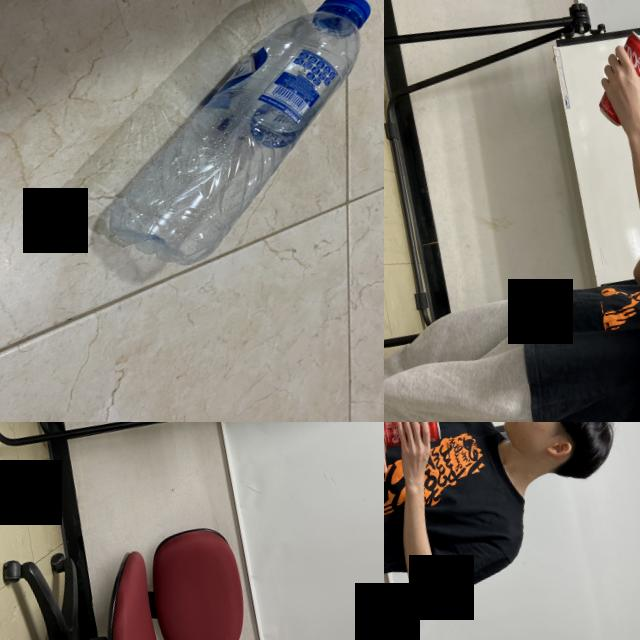bottle: (50, 0, 384, 284)
can: (582, 25, 640, 131), (384, 422, 441, 453)
